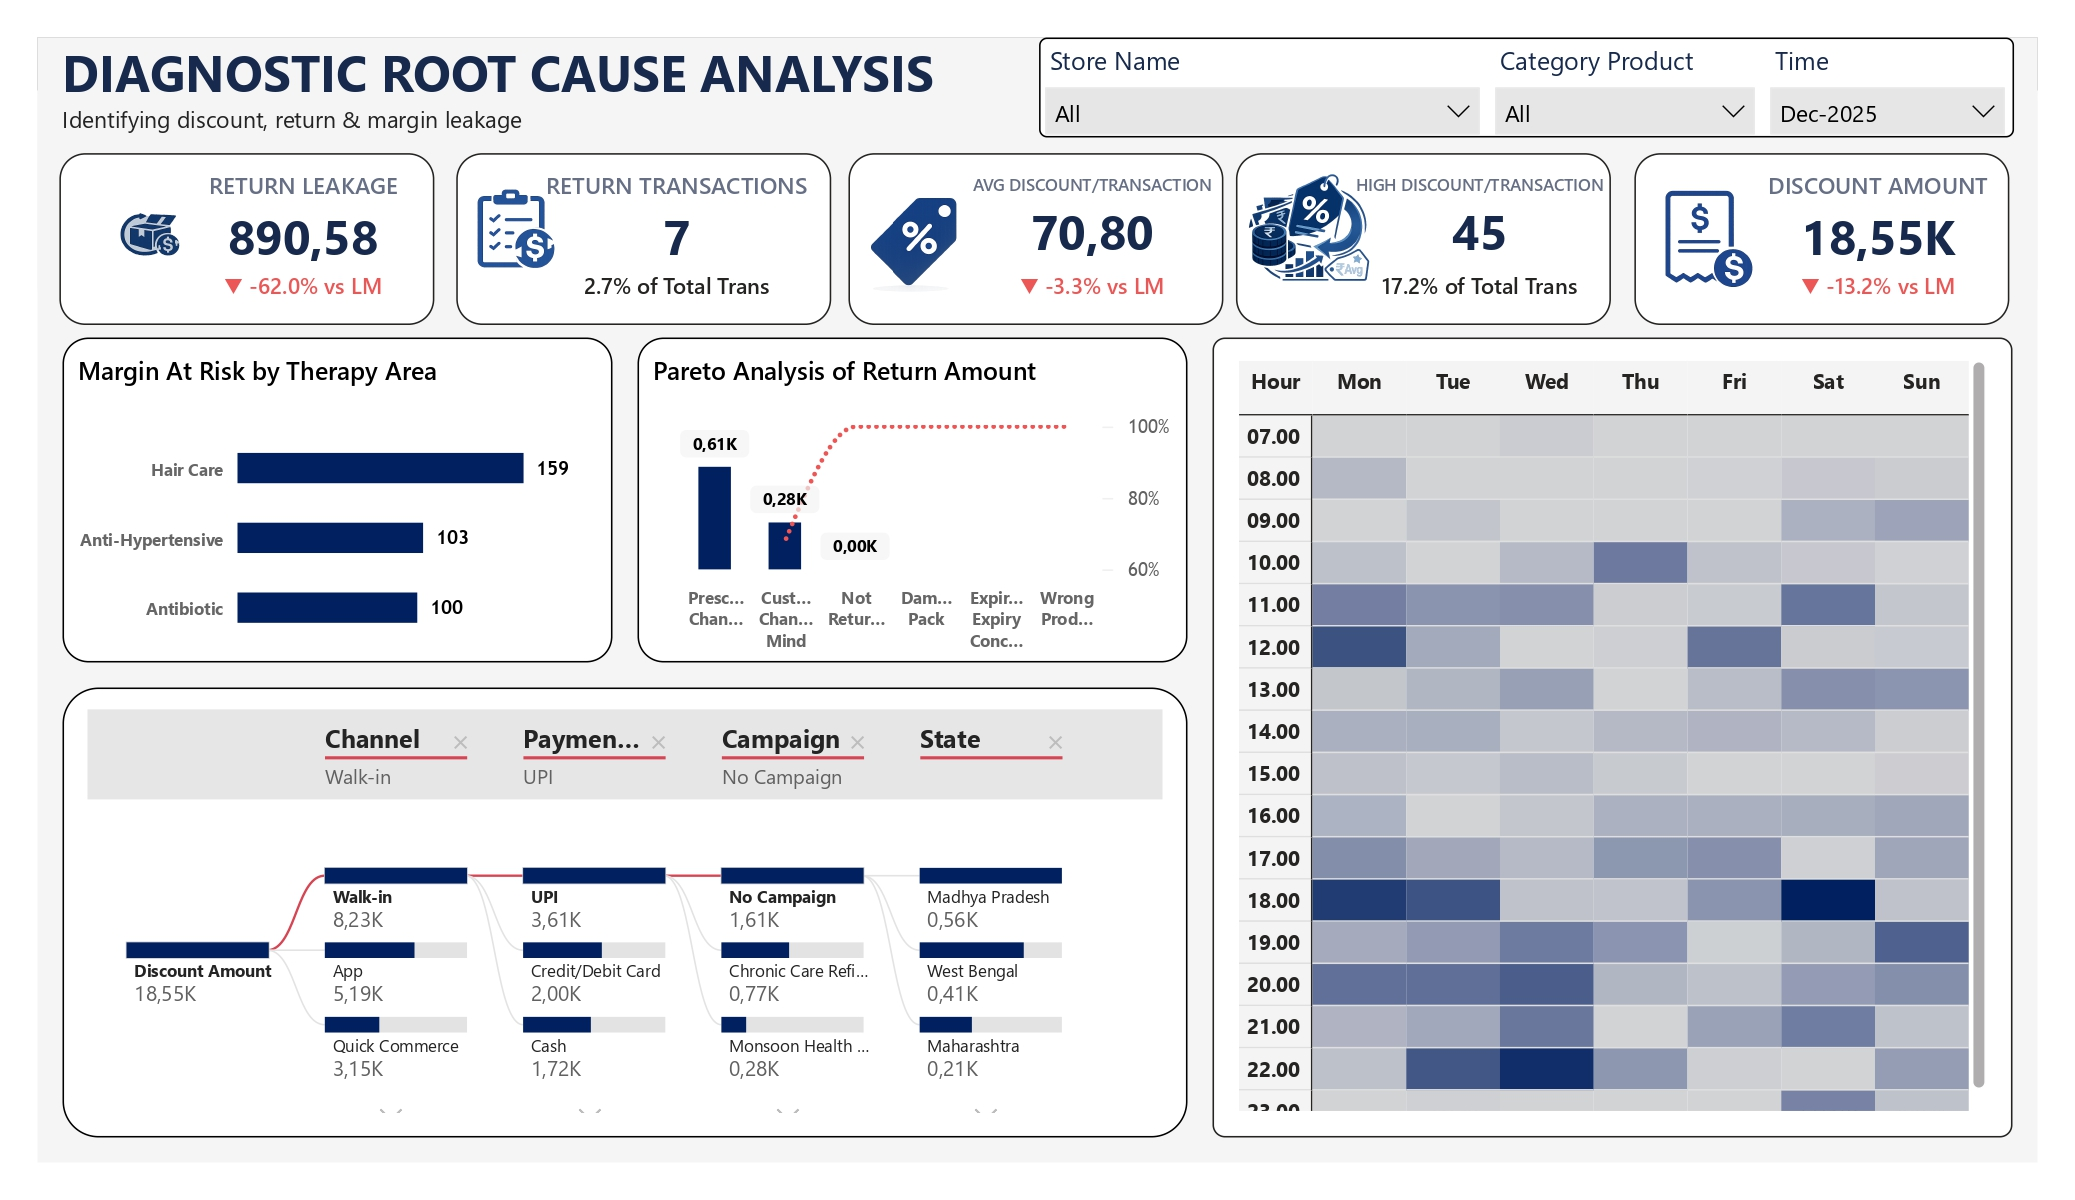

The dashboard page shown, as its layout file describes it:
{"tool":"powerbi","page":{"name":"Root Cause Analysis","canvas":[1280,720],"ordinal":1},"visuals":[{"type":"shape","box":[641.2,0,624,64],"z":0,"group":"g6"},{"type":"shape","box":[16,416,720,288],"z":0},{"type":"textbox","box":[16,0,592,48],"z":1000},{"type":"textbox","box":[16,32,320,32],"z":2000},{"type":"shape","box":[13.5,73.8,240,110],"z":2000,"group":"g1"},{"type":"shape","box":[268.5,73.8,240,110],"z":3000,"group":"g2"},{"type":"decompositionTreeVisual","fields":{"Analyze":["_Measure.Discount Amount"],"ExplainBy":["Dim_Channel.Sales_Channel","Dim_Payment.Payment_Mode","Dim_Campaign.Campaign_Name","Dim_Store.State"]},"box":[16,416,720,288],"z":3000},{"type":"shape","box":[519.5,73.8,240,110],"z":4000,"group":"g3"},{"type":"shape","box":[16,192,352,208],"z":4000},{"type":"shape","box":[767.5,73.8,240,110],"z":5000,"group":"g4"},{"type":"shape","box":[384,192,352,208],"z":5000},{"type":"shape","box":[1021.5,73.8,240,110],"z":6000,"group":"g5"},{"type":"pivotTable","fields":{"Rows":["Fact_Sales.Hour_Label"],"Values":["_Measure.Relized Revenue"],"Columns":["Dim_Date.Dayname"]},"box":[752,192,512,512],"z":6000},{"type":"clusteredBarChart","title":"Margin At Risk by Therapy Area","fields":{"Category":["Dim_Product.Therapy_Area"],"Y":["_Measure.Margin At Risk"]},"box":[16,192,352,208],"z":7000},{"type":"cardVisual","fields":{"Data":["_Measure.ReturnAmount"]},"box":[79.5,84.1,180,125],"z":8000,"group":"g1"},{"type":"lineStackedColumnComboChart","title":"Pareto Analysis of Return Amount","fields":{"Category":["Dim_ReturnReason.Return_Reason"],"Y":["_Measure.ReturnAmount"],"Y2":["_Measure.Cumulative Return Amount %"]},"box":[384,192,352,208],"z":8000},{"type":"group","id":"g1","title":"Group 1","box":[13.5,72.9,246,136.2],"z":9000},{"type":"cardVisual","fields":{"Data":["_Measure.Return Transactions"]},"box":[319.5,84.1,180,125],"z":9000,"group":"g2"},{"type":"slicer","fields":{"Values":["Dim_Store.Store_Name"]},"box":[640,4,288,64],"z":10000,"group":"g6"},{"type":"group","id":"g2","title":"Group 2","box":[239.5,72.9,269,136.2],"z":10000},{"type":"cardVisual","fields":{"Data":["_Measure.Avg Discount per Transactions"]},"box":[585.5,84.1,180,125],"z":10000,"group":"g3"},{"type":"slicer","fields":{"Values":["Dim_Product.Category"]},"box":[928,4,176,64],"z":11000,"group":"g6"},{"type":"group","id":"g3","title":"Group 3","box":[495.5,72.9,270,136.2],"z":11000},{"type":"cardVisual","fields":{"Data":["_Measure.High Discount Transactions"]},"box":[833.5,84.1,180,125],"z":11000,"group":"g4"},{"type":"slicer","fields":{"Values":["Dim_Date.MonthYear"]},"box":[1104,4,160,64],"z":12000,"group":"g6"},{"type":"group","id":"g4","title":"Group 4","box":[751.5,72.9,262,136.2],"z":12000},{"type":"cardVisual","fields":{"Data":["_Measure.Discount Amount"]},"box":[1087.5,84.1,180,125],"z":12000,"group":"g5"},{"type":"image","box":[15.5,72.9,112,112],"z":13000,"group":"g1"},{"type":"group","id":"g5","title":"Group 5","box":[1007.5,72.9,260,136.2],"z":13000},{"type":"group","id":"g6","title":"Group 6","box":[640,0,624,80],"z":14000},{"type":"image","box":[239.5,72.9,128,112],"z":14000,"group":"g2"},{"type":"image","box":[495.5,72.9,128,112],"z":15000,"group":"g3"},{"type":"image","box":[751.5,72.9,128,112],"z":16000,"group":"g4"},{"type":"image","box":[1007.5,72.9,112,112],"z":17000,"group":"g5"}]}

Visuals, with their boxes on the page's 1280x720 design canvas (x1, y1, x2, y2). These are canvas units, not pixel positions in the 2075x1200 screenshot, which may show the page scaled, cropped or inside an application window:
shape: Rect(641, 0, 1265, 64)
shape: Rect(16, 416, 736, 704)
textbox: Rect(16, 0, 608, 48)
textbox: Rect(16, 32, 336, 64)
shape: Rect(14, 74, 254, 184)
shape: Rect(268, 74, 508, 184)
decompositionTreeVisual - _Measure.Discount Amount x Dim_Channel.Sales_Channel: Rect(16, 416, 736, 704)
shape: Rect(520, 74, 760, 184)
shape: Rect(16, 192, 368, 400)
shape: Rect(768, 74, 1008, 184)
shape: Rect(384, 192, 736, 400)
shape: Rect(1022, 74, 1262, 184)
pivotTable - Fact_Sales.Hour_Label x _Measure.Relized Revenue: Rect(752, 192, 1264, 704)
"Margin At Risk by Therapy Area" clusteredBarChart: Rect(16, 192, 368, 400)
cardVisual - _Measure.ReturnAmount: Rect(80, 84, 260, 209)
"Pareto Analysis of Return Amount" lineStackedColumnComboChart: Rect(384, 192, 736, 400)
"Group 1" group: Rect(14, 73, 260, 209)
cardVisual - _Measure.Return Transactions: Rect(320, 84, 500, 209)
slicer - Dim_Store.Store_Name: Rect(640, 4, 928, 68)
"Group 2" group: Rect(240, 73, 508, 209)
cardVisual - _Measure.Avg Discount per Transactions: Rect(586, 84, 766, 209)
slicer - Dim_Product.Category: Rect(928, 4, 1104, 68)
"Group 3" group: Rect(496, 73, 766, 209)
cardVisual - _Measure.High Discount Transactions: Rect(834, 84, 1014, 209)
slicer - Dim_Date.MonthYear: Rect(1104, 4, 1264, 68)
"Group 4" group: Rect(752, 73, 1014, 209)
cardVisual - _Measure.Discount Amount: Rect(1088, 84, 1268, 209)
image: Rect(16, 73, 128, 185)
"Group 5" group: Rect(1008, 73, 1268, 209)
"Group 6" group: Rect(640, 0, 1264, 80)
image: Rect(240, 73, 368, 185)
image: Rect(496, 73, 624, 185)
image: Rect(752, 73, 880, 185)
image: Rect(1008, 73, 1120, 185)
